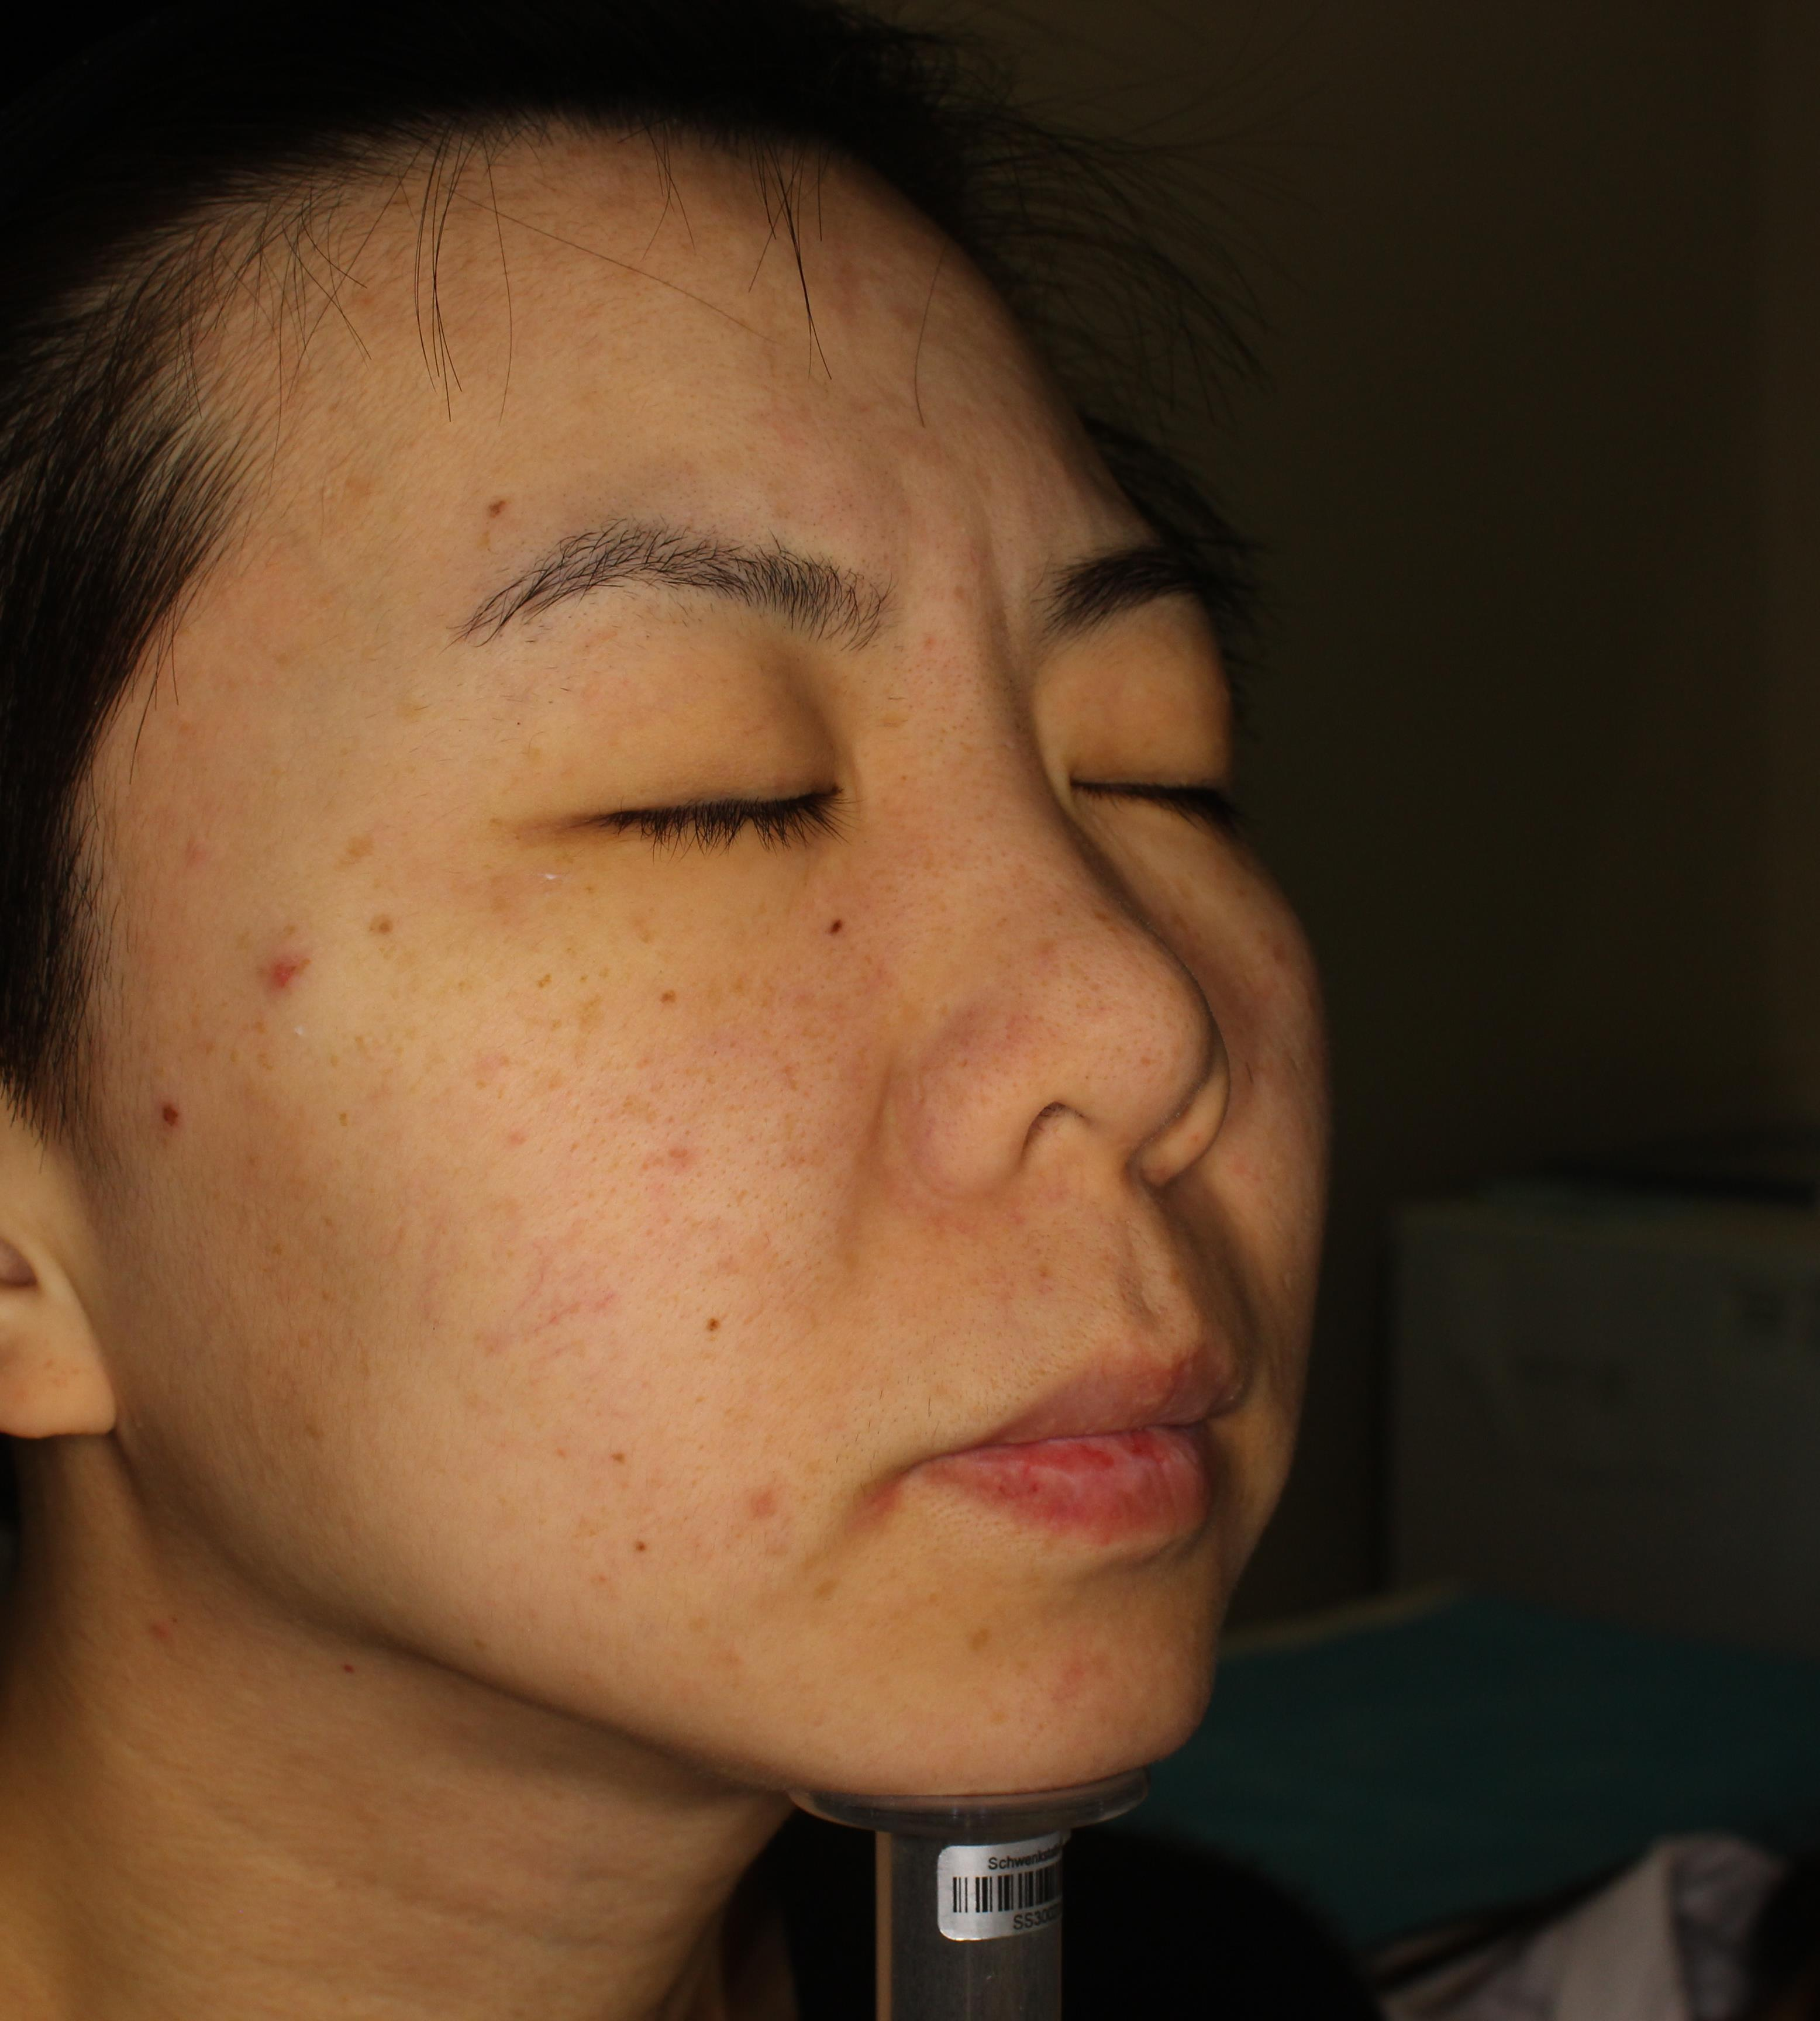fore: (239, 939, 323, 1024)
